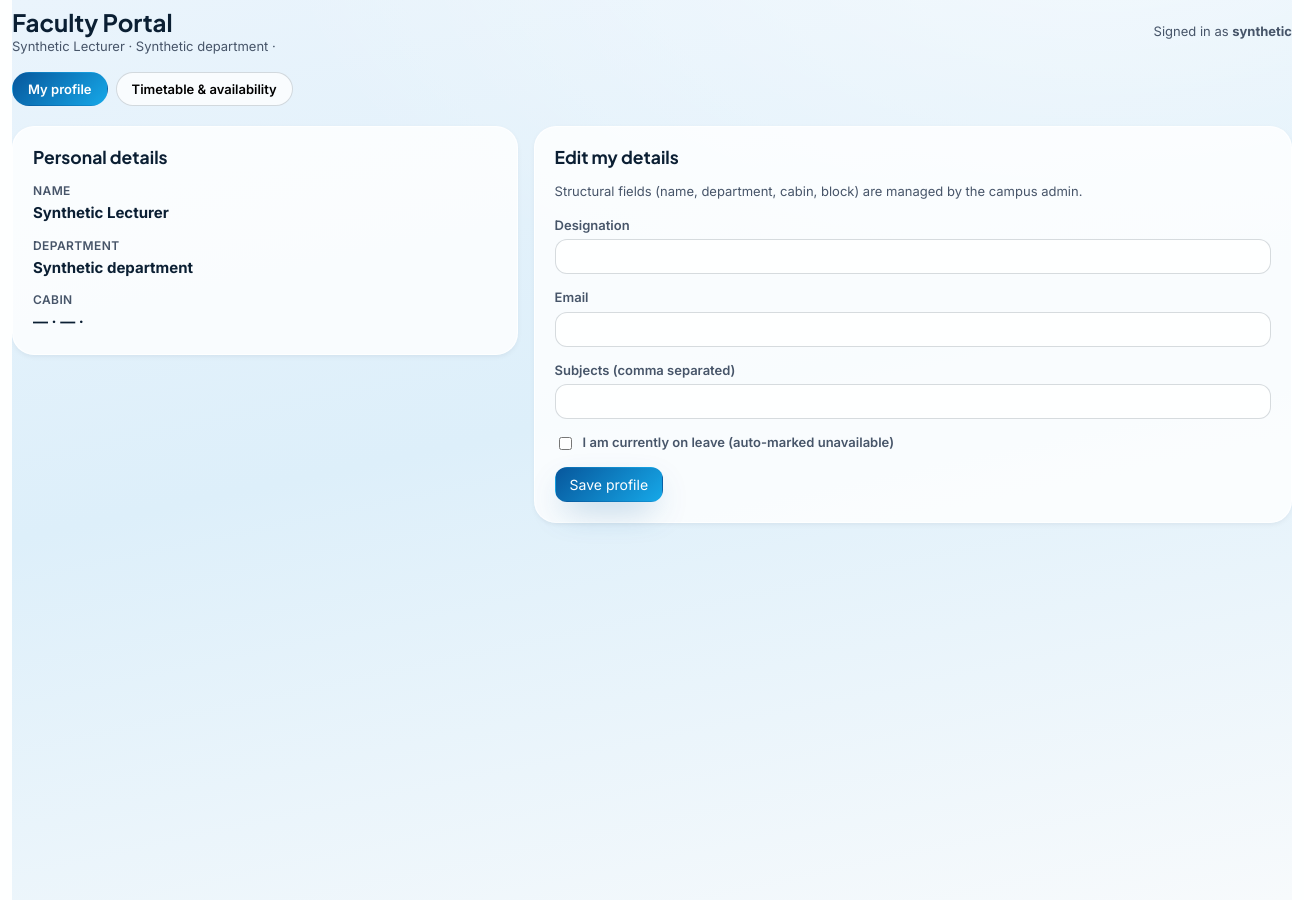
it: faculty editor retains day-specific responses and reports server timetable validation errors
Step 1. Click the button "Timetable & availability" → (204, 89), box [116,72,293,106]
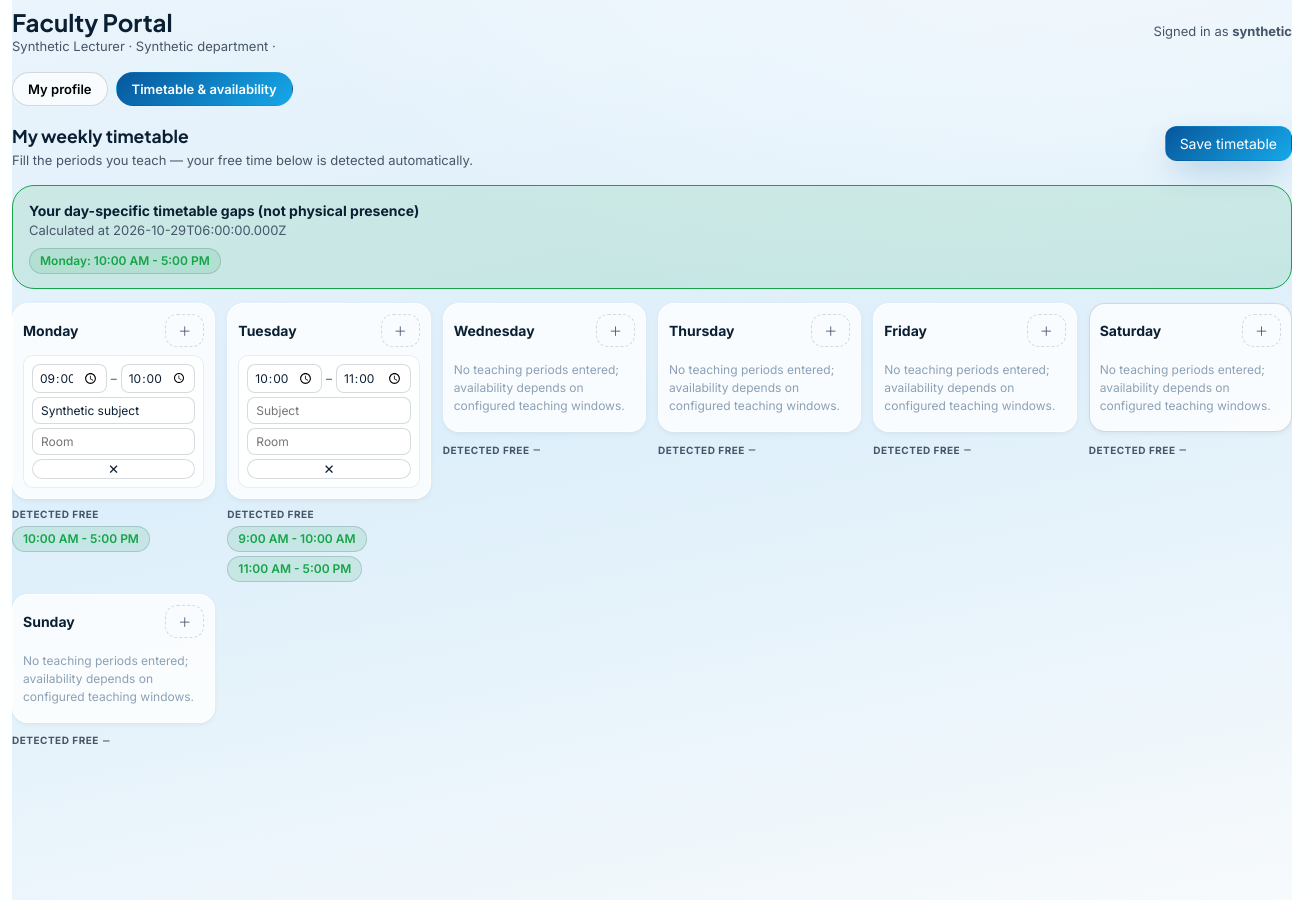
Result: the time field named "Monday period 1 start" is shown at [32,364,107,393]
Result: the text "Monday: 10:00 AM - 5:00 PM" is shown at [29,248,221,274]
Result: the text "9:00 AM - 10:00 AM" is shown at [227,526,367,552]
Step 2. Clear the time field named "Monday period 1 end" → (158, 379), box [121,364,195,393]
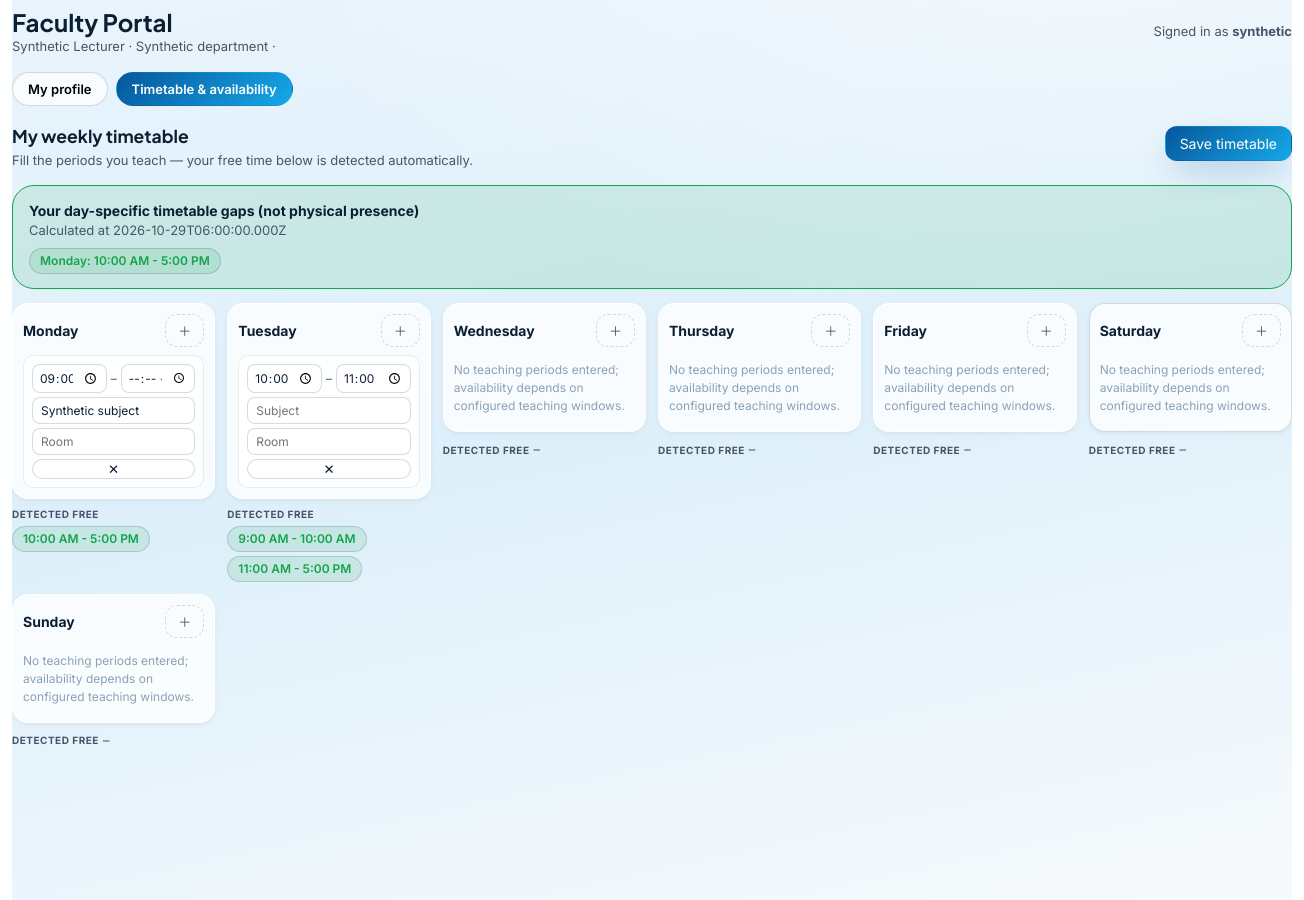
Step 3. Click the button "Save timetable" → (1228, 144), box [1165,126,1292,161]
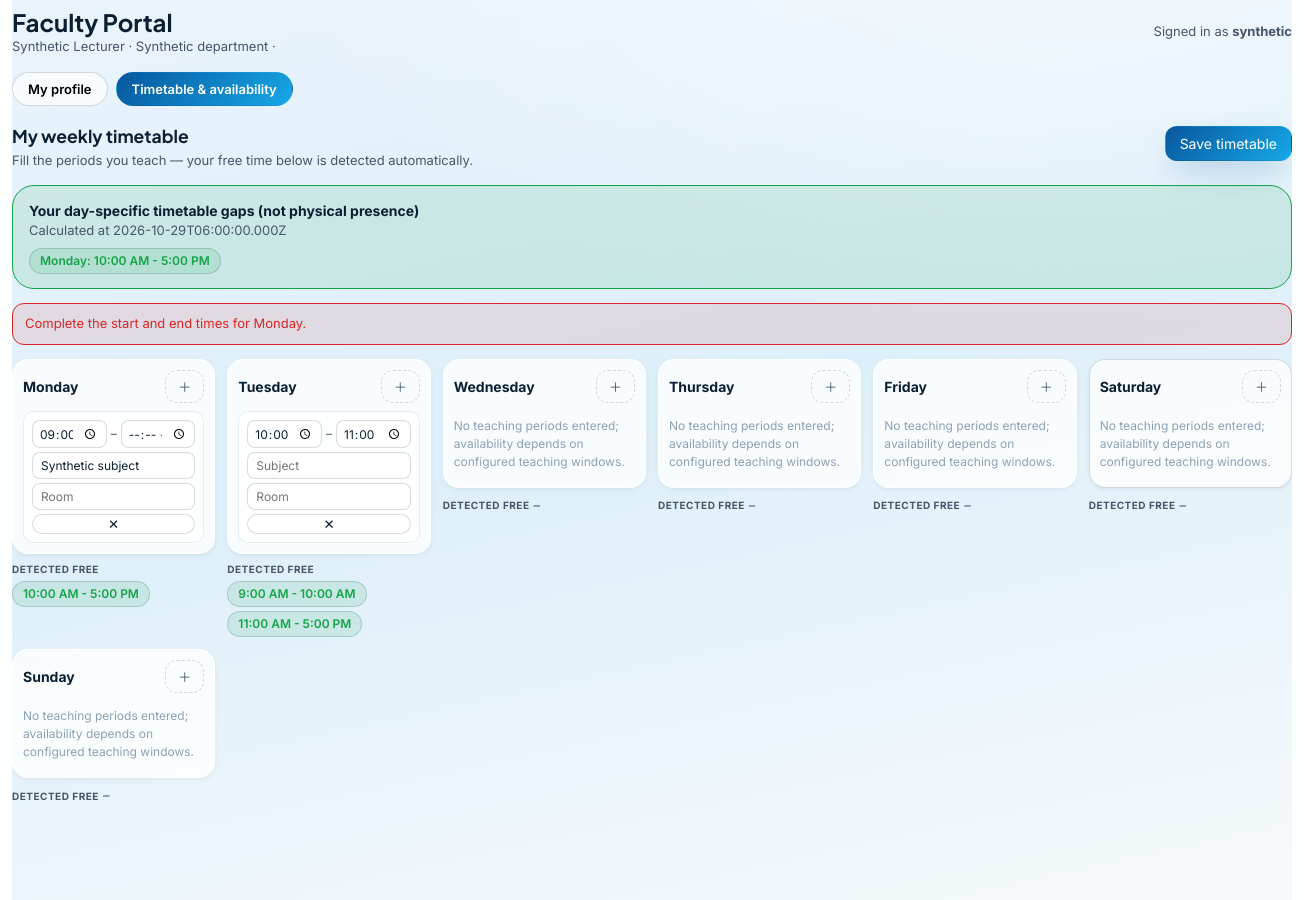
Result: the text "Complete the start and end times for Monday." is shown at [12,303,1292,345]
Step 4. Type "10:00" into the time field named "Monday period 1 end" → (158, 434), box [121,420,195,448]
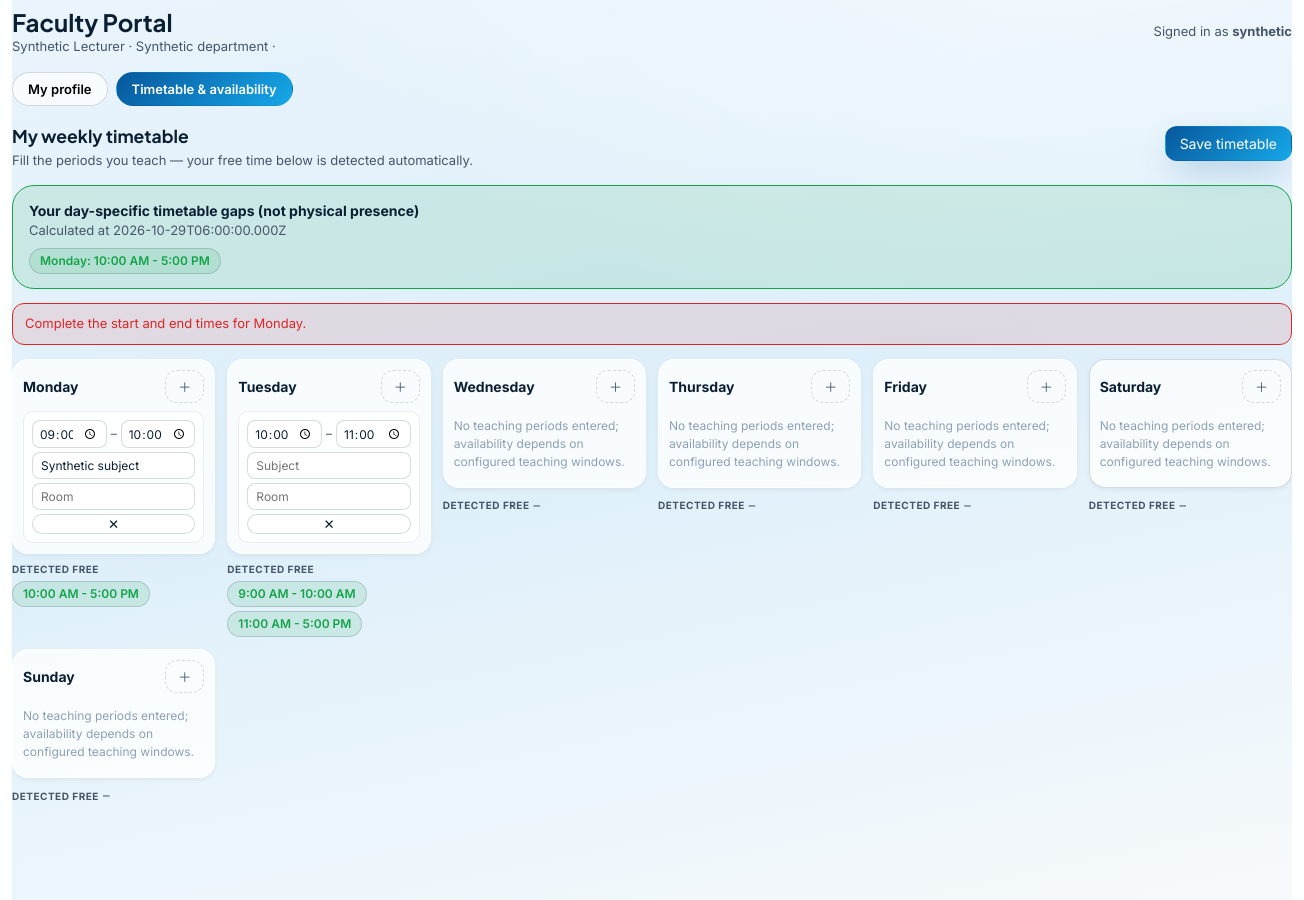
Step 5. Click the button "Save timetable" → (1228, 144), box [1165,126,1292,161]
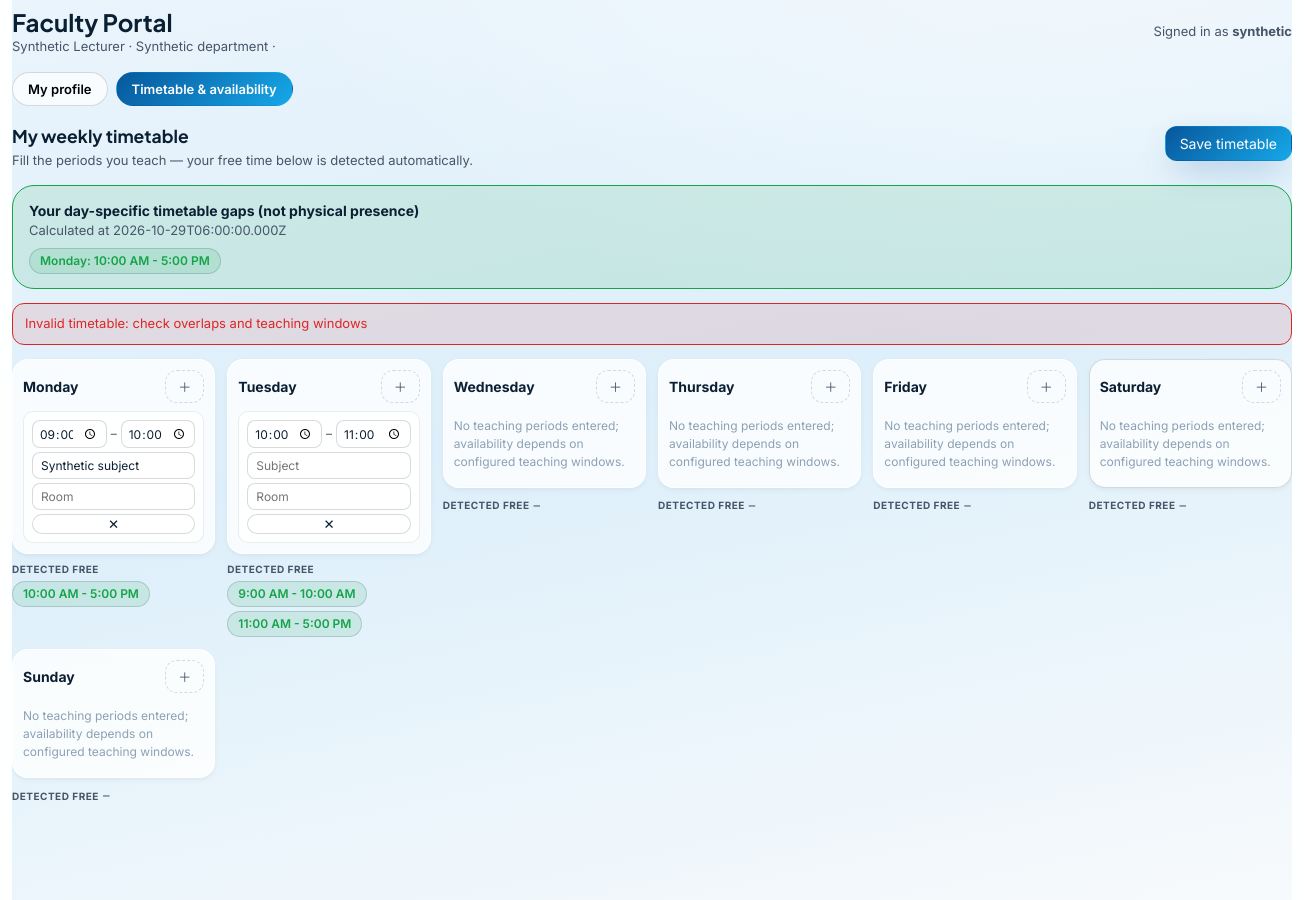
Result: the time field named "Tuesday period 1 start" holds "10:00" at [247,420,322,448]
Result: the text "Invalid timetable: check overlaps and teaching windows" is shown at [12,303,1292,345]
